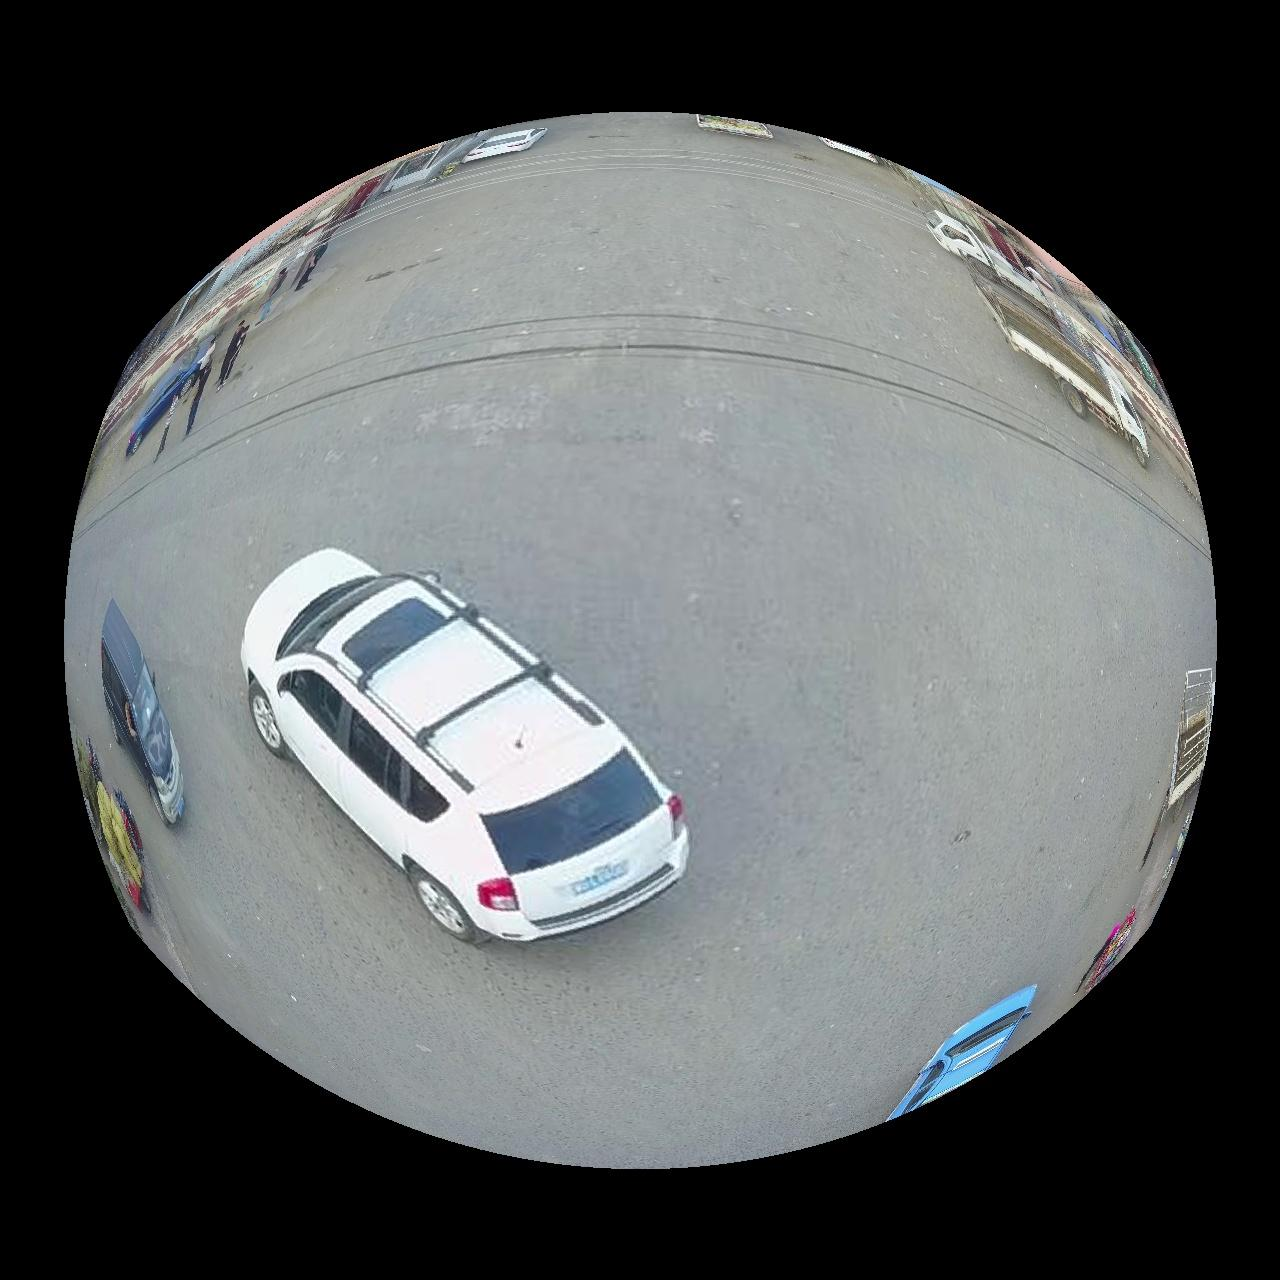cars: (240, 549, 690, 942), (891, 987, 1039, 1121), (100, 601, 183, 825), (125, 359, 200, 455), (462, 125, 546, 162)
